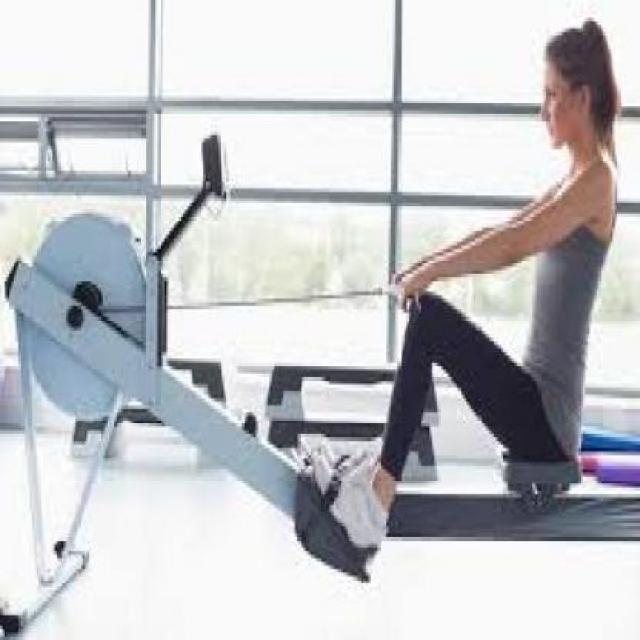Seated Cable Rows: (3, 0, 640, 628)
